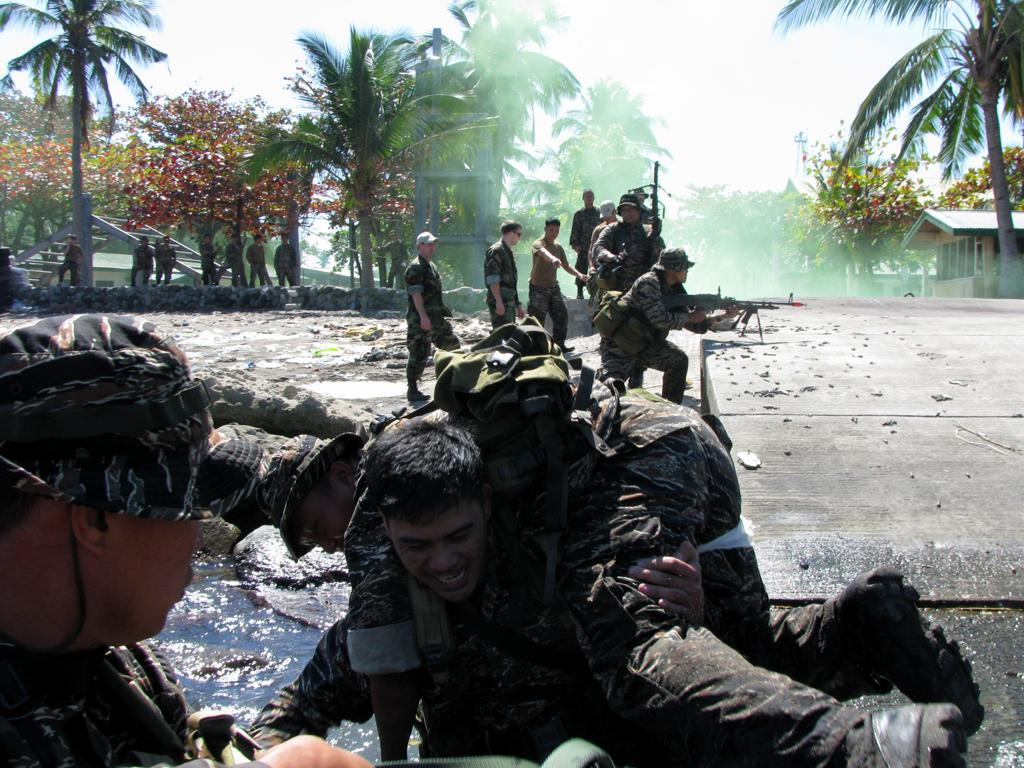face: (81, 454, 201, 634), (388, 505, 487, 602), (296, 489, 383, 555), (223, 495, 297, 534), (621, 204, 639, 223), (422, 240, 436, 256), (674, 268, 688, 283), (546, 225, 559, 241), (512, 229, 522, 244), (604, 211, 616, 223), (584, 191, 594, 205), (635, 194, 644, 206), (257, 238, 263, 244), (69, 239, 75, 245), (283, 236, 288, 243), (143, 241, 148, 247), (205, 236, 210, 242), (234, 238, 239, 243), (165, 240, 169, 245), (158, 242, 162, 247), (237, 237, 241, 242)
